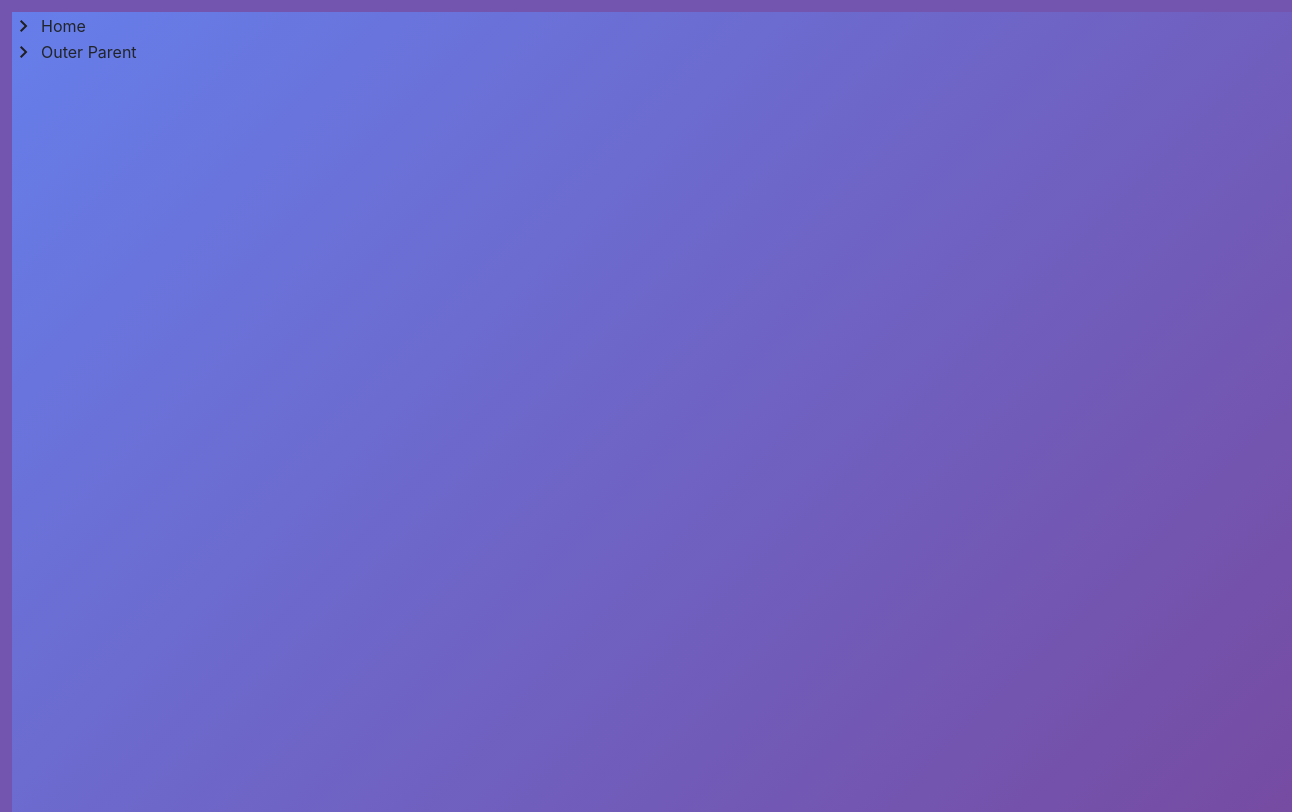
Test case: MenuItem › home resets the menu
Click the text "Outer Parent": (74,52) [12, 40, 137, 64]
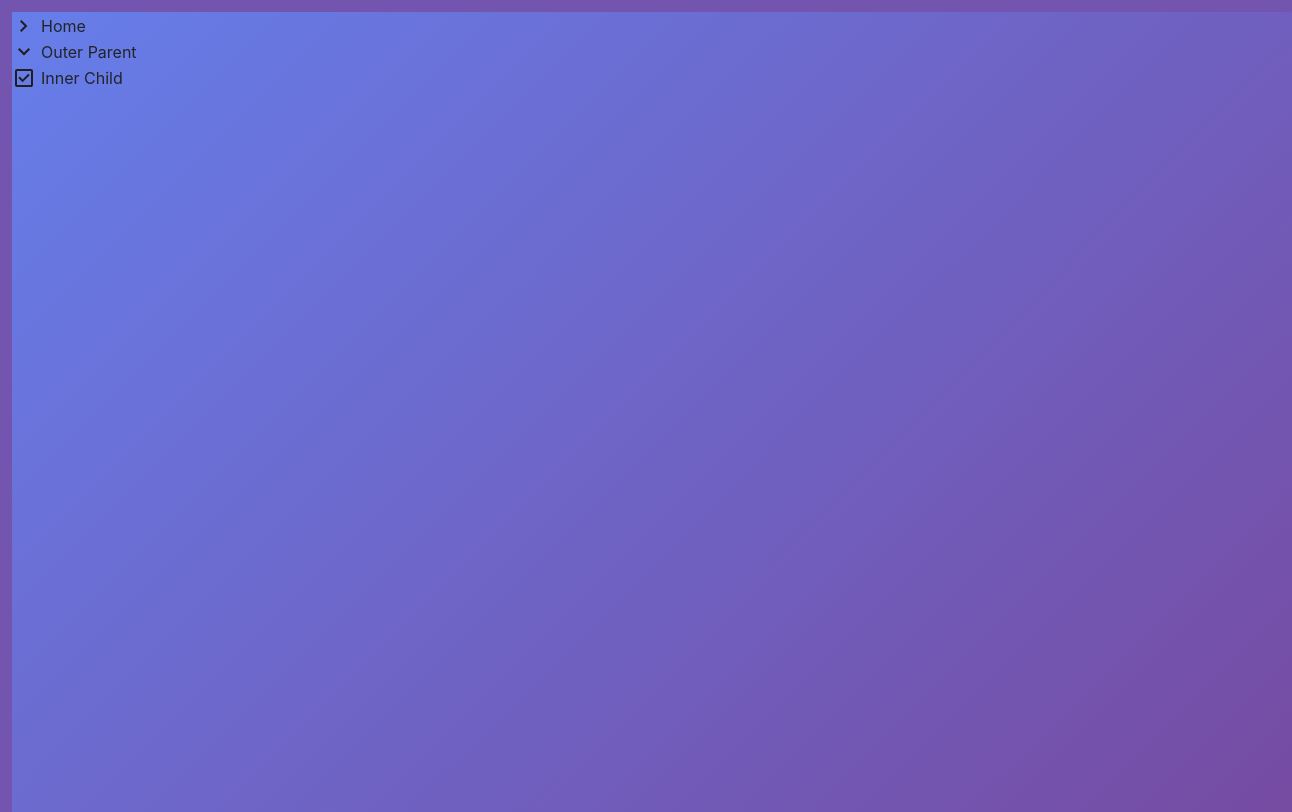
Expected: the text "Inner Child" is shown, [12, 66, 123, 90]
Click the text "Home": (49,26) [12, 14, 86, 38]
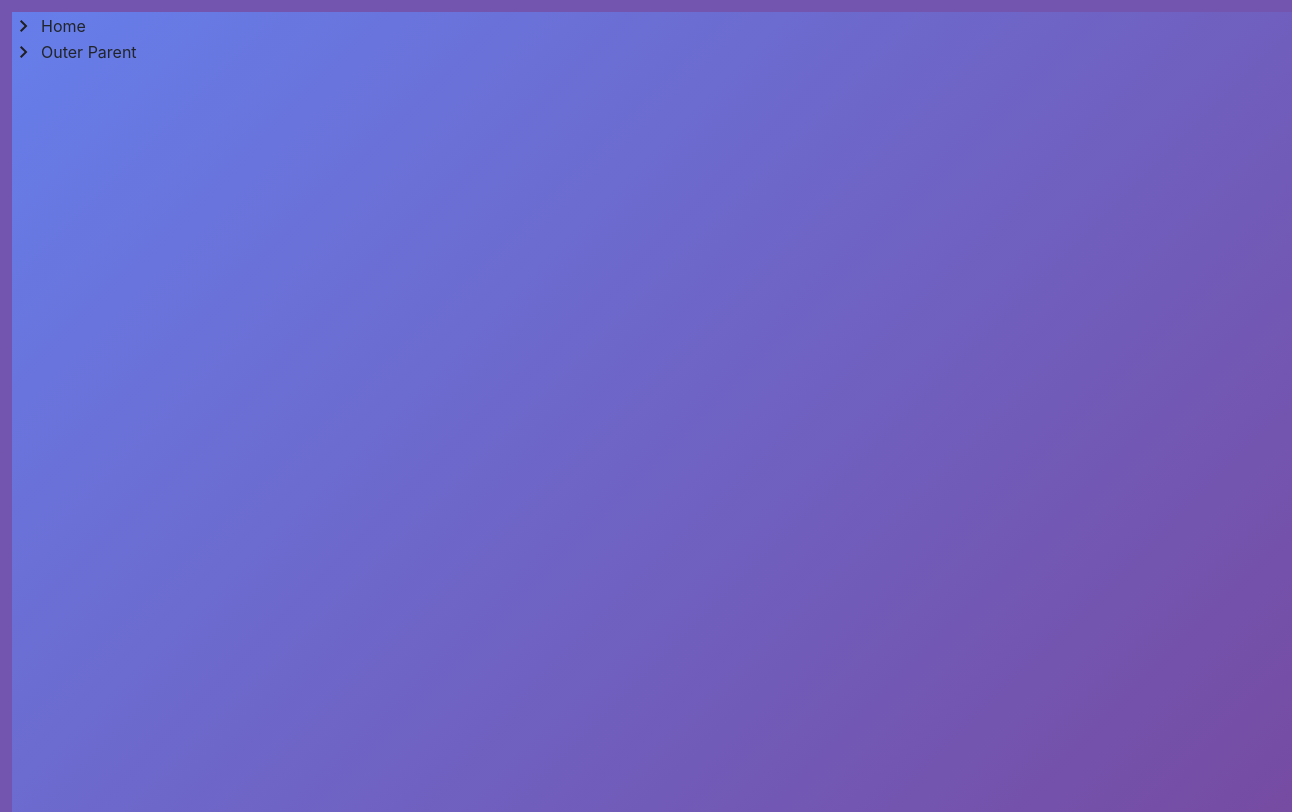
Expected: the text "Inner Child" is gone
